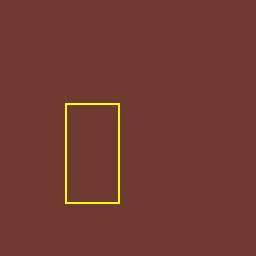Gloves: (64, 103, 120, 203)
